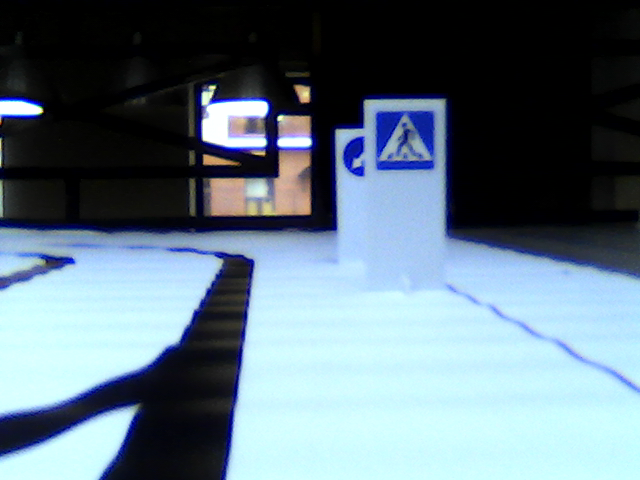pesh: (375, 110, 434, 168)
